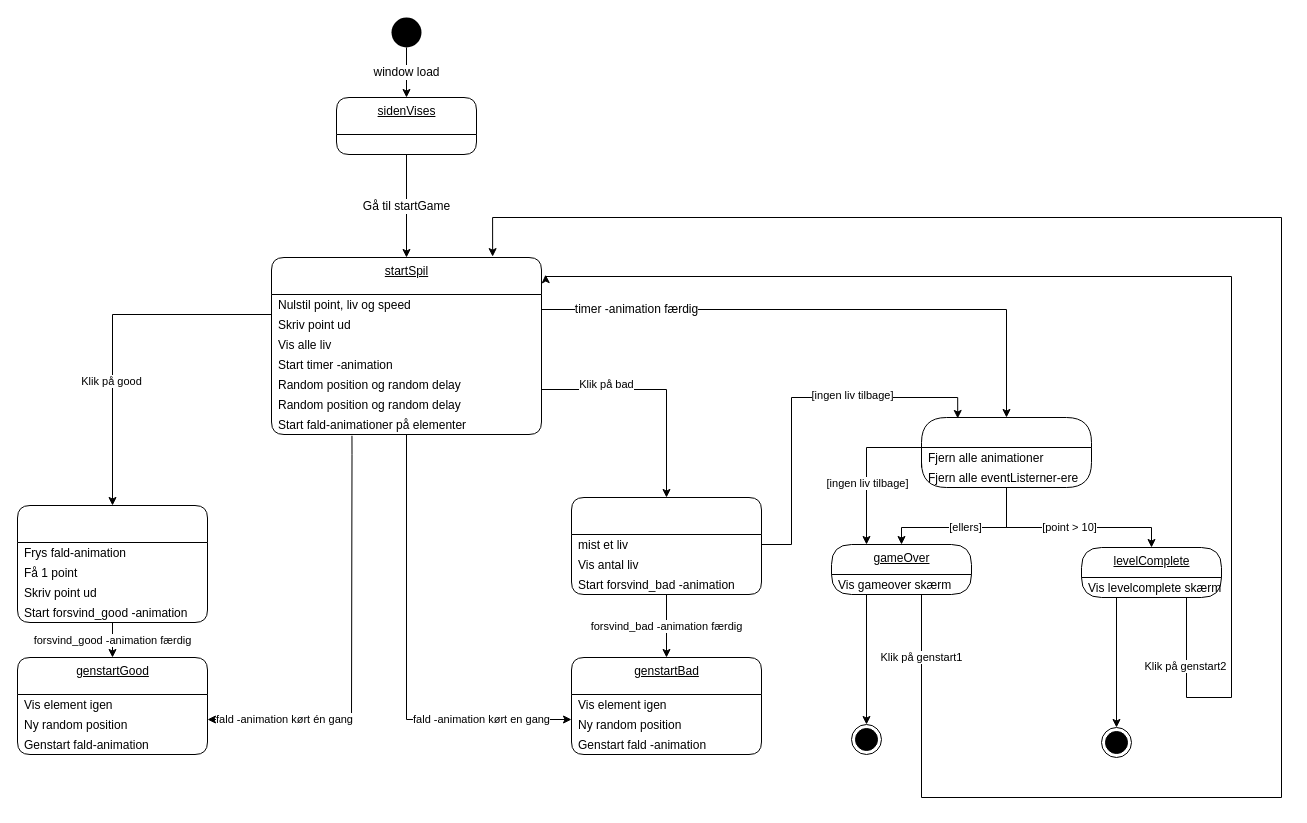
Image size: 1307x823. Some labels were removed from this diagram. The box of each missing label's shape, as (x1, y1, x2, y2) in pixels:
clickBad: (570, 496, 762, 594)
clickGood: (16, 504, 208, 622)
stopSpillet: (920, 416, 1092, 488)
